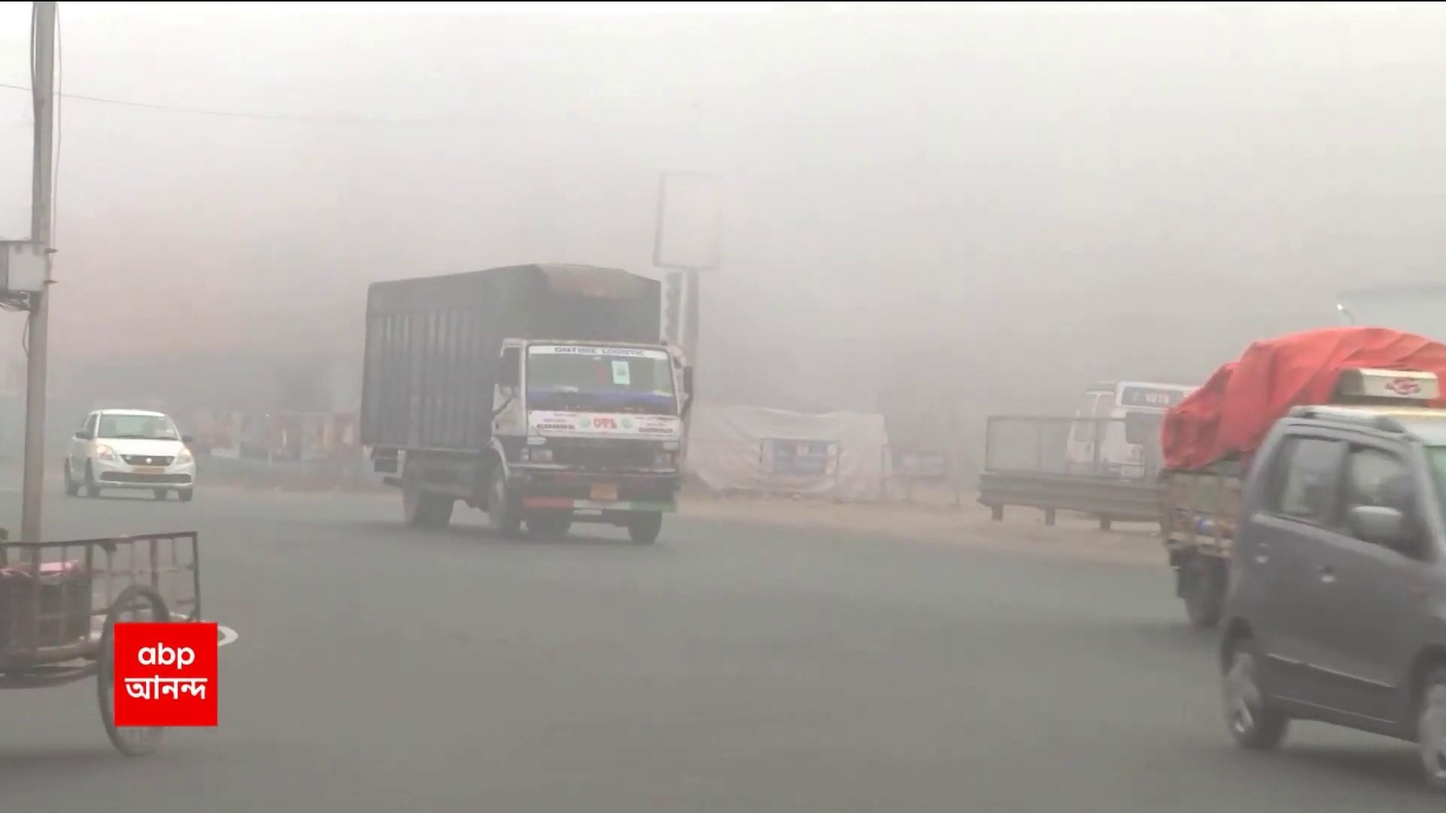Car: (1224, 397, 1446, 775), (66, 405, 196, 504)
Truck: (356, 255, 690, 546)
